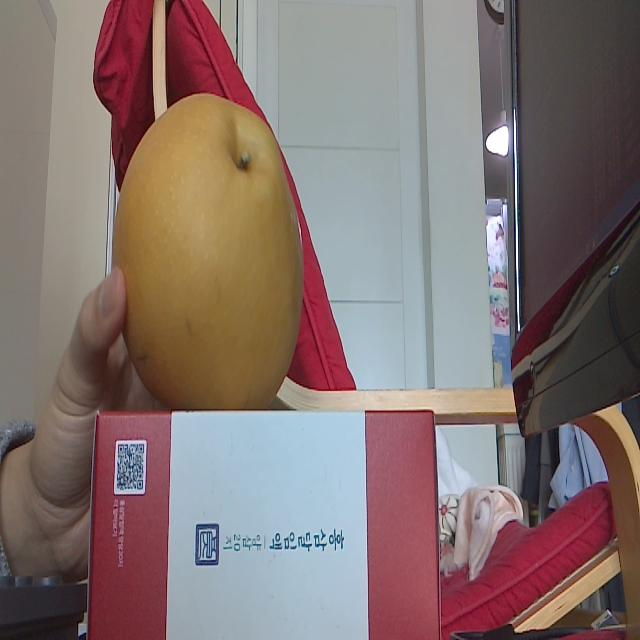pear: (118, 88, 308, 408)
